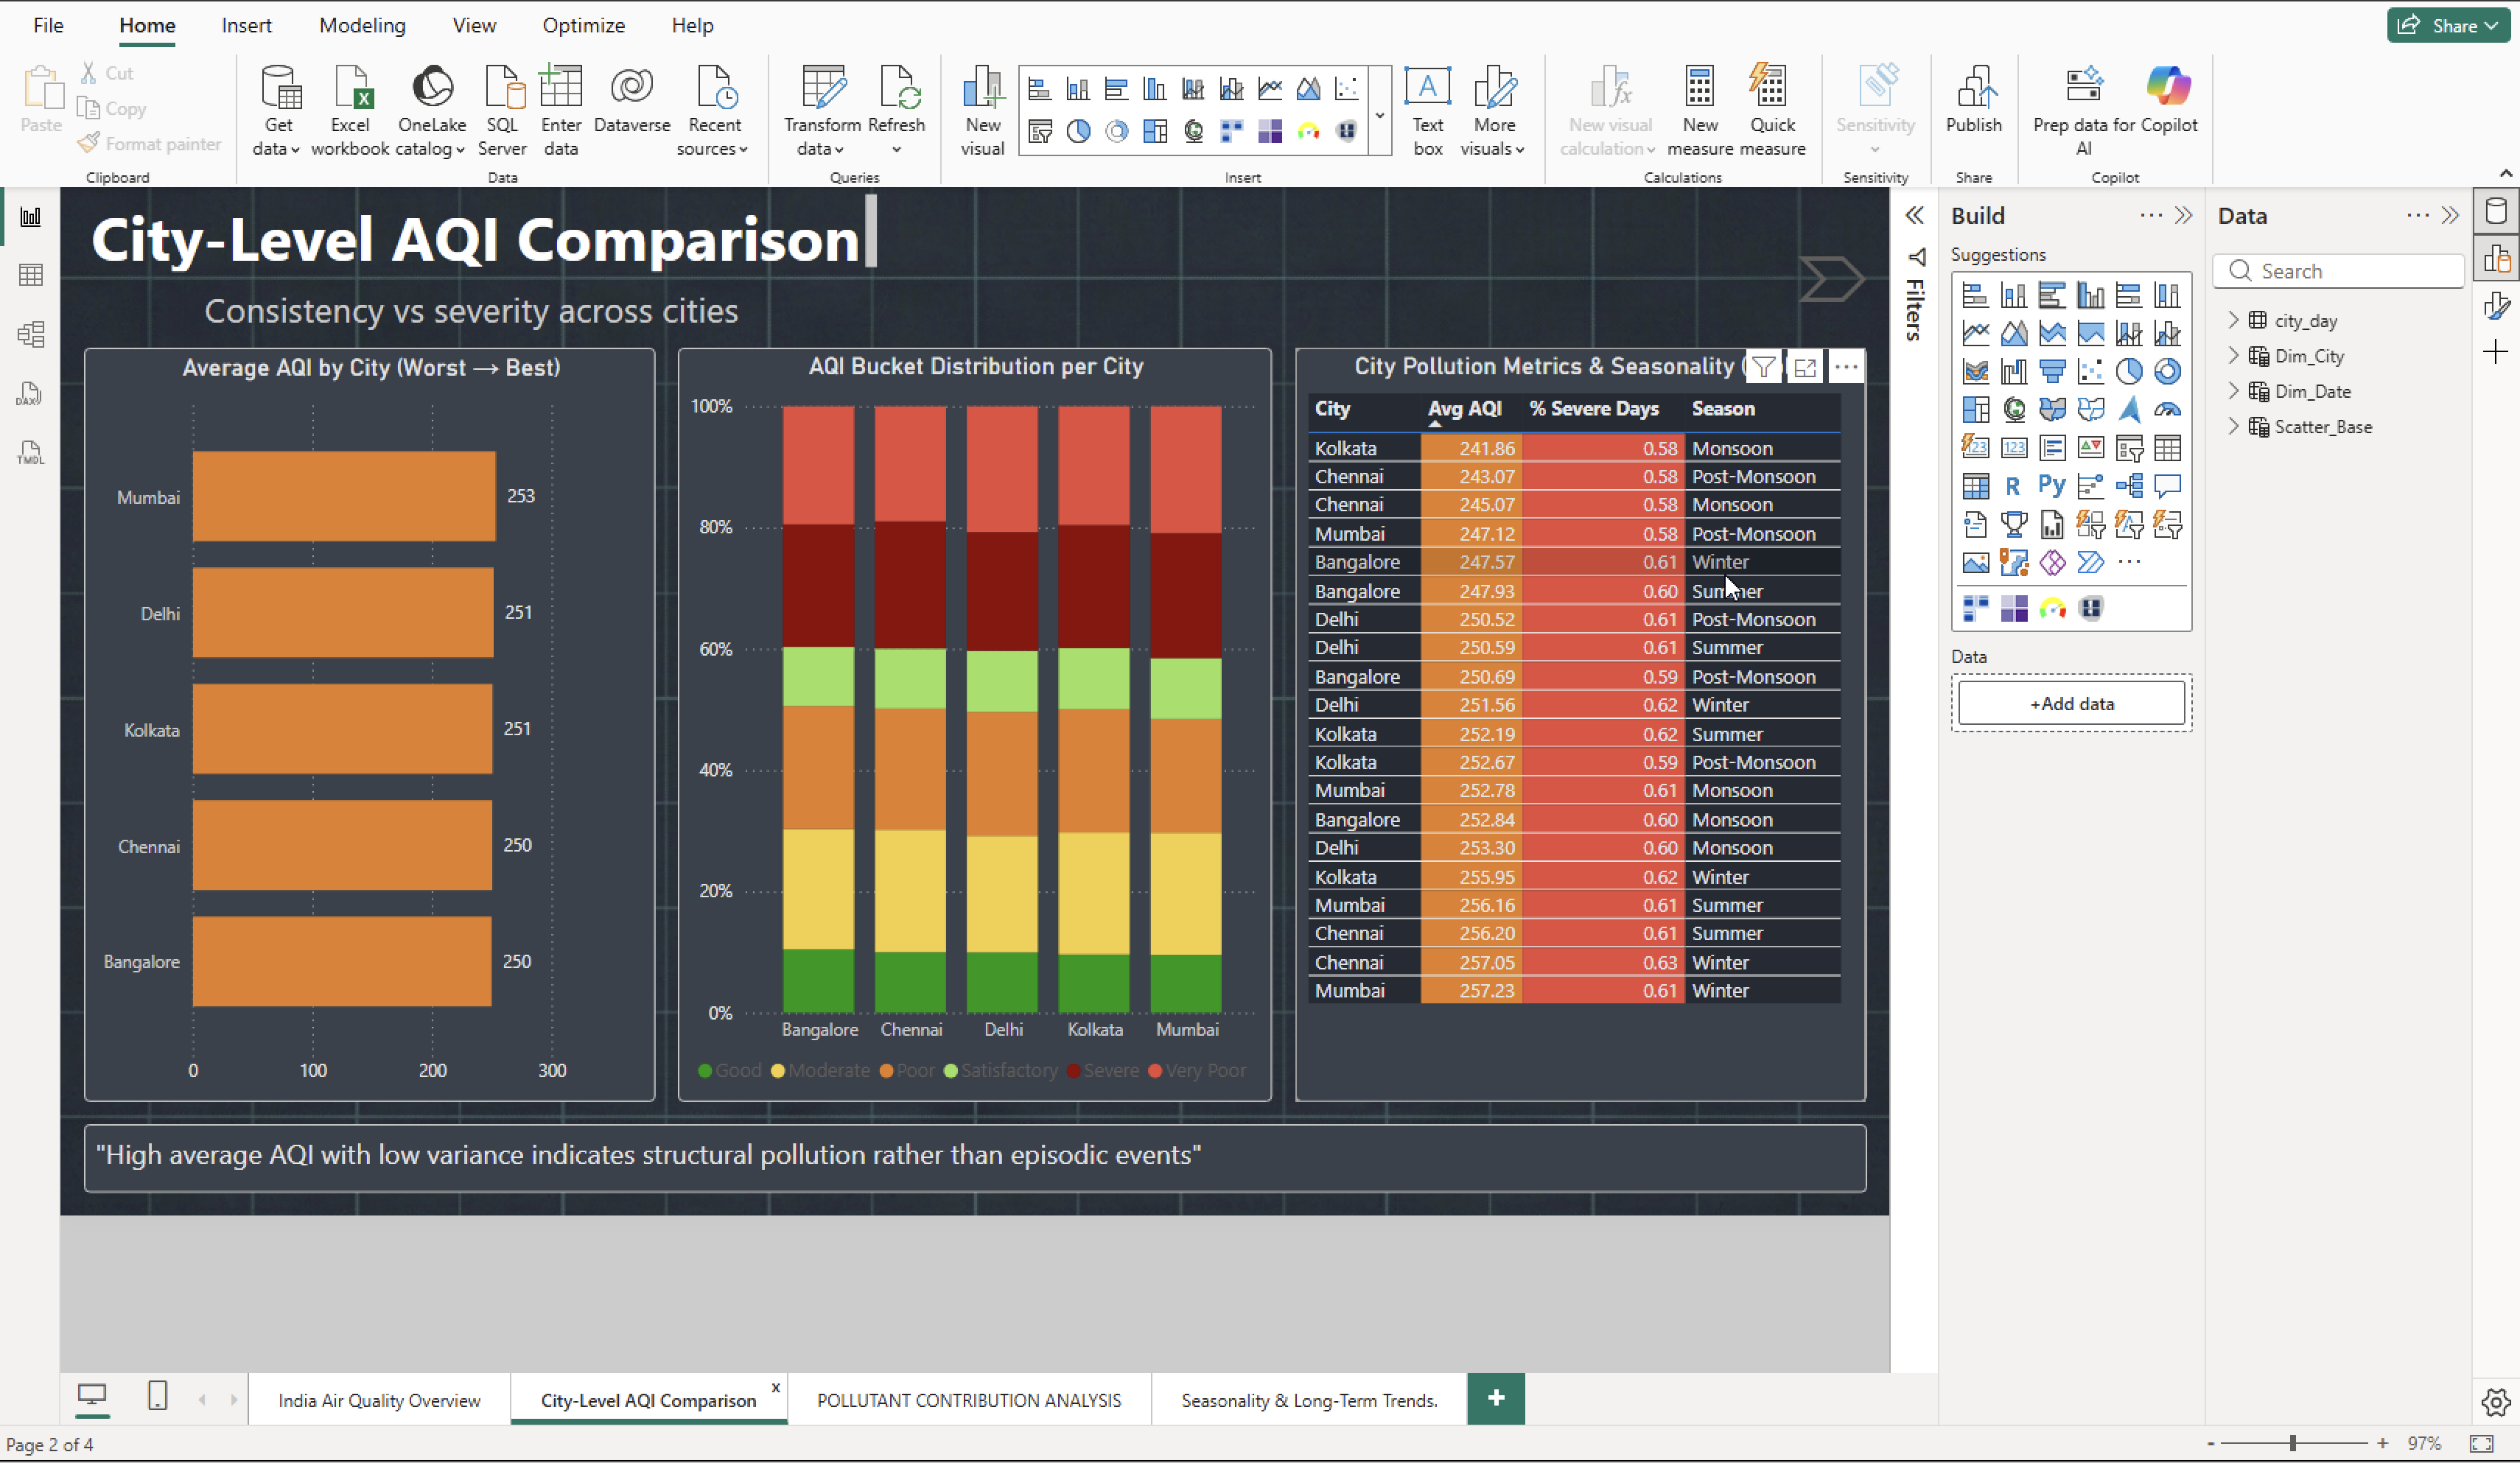

The page's visual inventory and layout, read from the dashboard file:
{"tool":"powerbi","page":{"name":"City-Level AQI Comparison","canvas":[1280,720],"ordinal":1},"visuals":[{"type":"textbox","box":[16,0,560,64],"z":0},{"type":"textbox","box":[96,64,384,48],"z":1000},{"type":"clusteredBarChart","title":"Average AQI by City (Worst → Best)","fields":{"Category":["Dim_City.City"],"Y":["city_day.Avg AQI"]},"box":[16,112,400,528],"z":2000},{"type":"hundredPercentStackedColumnChart","title":"AQI Bucket Distribution per City","fields":{"Category":["Dim_City.City"],"Series":["city_day.AQI_Bucket"],"Y":["city_day.Total Days"]},"box":[432,112,416,528],"z":3000},{"type":"tableEx","title":"City Pollution Metrics & Seasonality (Table)","fields":{"Values":["Dim_City.City","city_day.Avg AQI","city_day.% Severe Days","Dim_Date.Season"]},"box":[864,112,400,528],"z":4000},{"type":"textbox","box":[16,656,1248,48],"z":5000},{"type":"actionButton","box":[1216,48,48,32],"z":6000}]}

Visuals, with their boxes on the page's 1280x720 design canvas (x1, y1, x2, y2). These are canvas units, not pixel positions in the 2520x1463 screenshot, which may show the page scaled, cropped or inside an application window:
textbox: [16, 0, 576, 64]
textbox: [96, 64, 480, 112]
"Average AQI by City (Worst → Best)" clusteredBarChart: [16, 112, 416, 640]
"AQI Bucket Distribution per City" hundredPercentStackedColumnChart: [432, 112, 848, 640]
"City Pollution Metrics & Seasonality (Table)" tableEx: [864, 112, 1264, 640]
textbox: [16, 656, 1264, 704]
actionButton: [1216, 48, 1264, 80]
